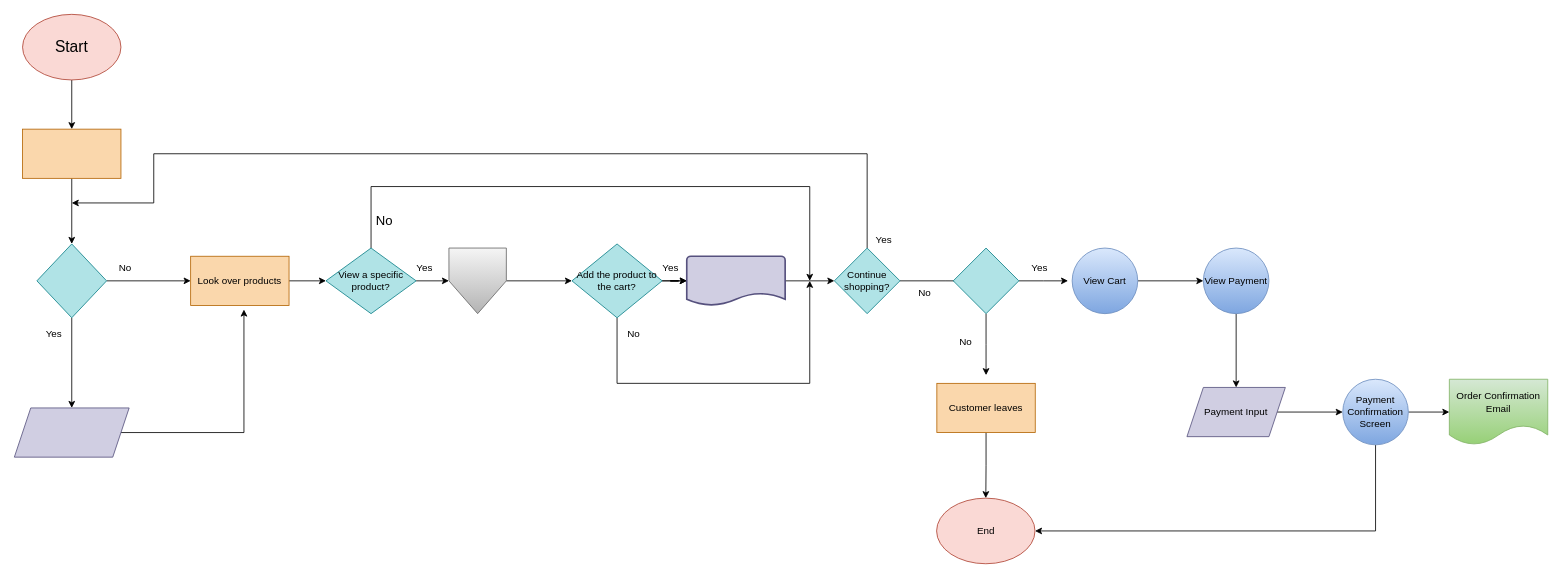
Image size: 1562x578. Some labels were removed from this diagram. The shapes that lost their labels are listed below. From the top down, each one's centre as x and y in pixels, then its label:
the point at 71,153: Customer arrives
the point at 71,280: Seaching for a product?
the point at 477,280: Product webpage
the point at 736,280: Item Added Notification!
the point at 985,280: Checkout?
the point at 71,432: Input from customer
